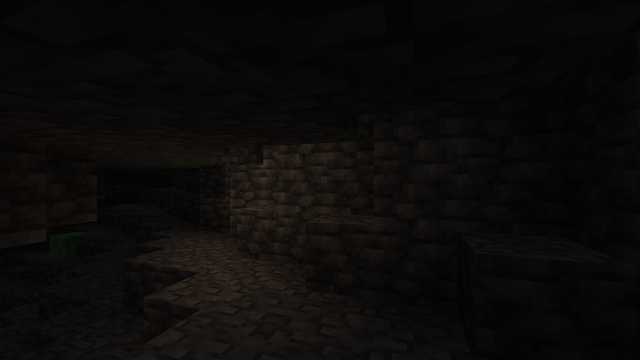slimes: (49, 230, 89, 258)
